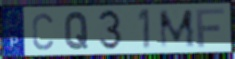1: (137, 8, 151, 51)
3: (97, 8, 124, 53)
C: (31, 11, 55, 52)
F: (194, 7, 226, 49)
M: (157, 8, 197, 50)
Q: (64, 10, 90, 51)
